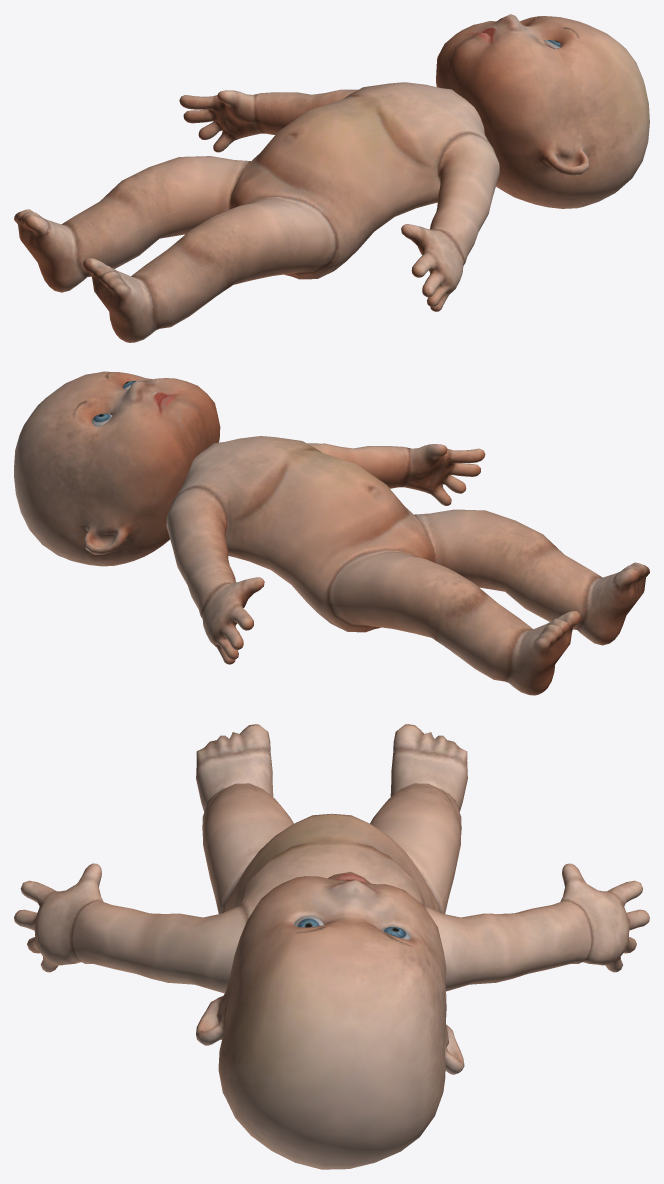
The model's file is SM_BabyDoll_2.fbx.
The picture shows the model from 3 angles, top to bottom: view 1: azimuth 30°, elevation 25°; view 2: azimuth 150°, elevation 25°; view 3: azimuth 270°, elevation 25°; orthographic projection. The views are drawn at different scales.
Parts seen in each view (by area): view 1: SM_BabyDoll_2; view 2: SM_BabyDoll_2; view 3: SM_BabyDoll_2.
Boxes of the visible parts, left/top/right/bottom form: SM_BabyDoll_2: left=14, top=14, right=649, bottom=342; SM_BabyDoll_2: left=14, top=371, right=649, bottom=695; SM_BabyDoll_2: left=14, top=724, right=649, bottom=1169.
Bounding box in the file's own units: 22.34 × 16.26 × 7.05.
1 material, 1 textured.
